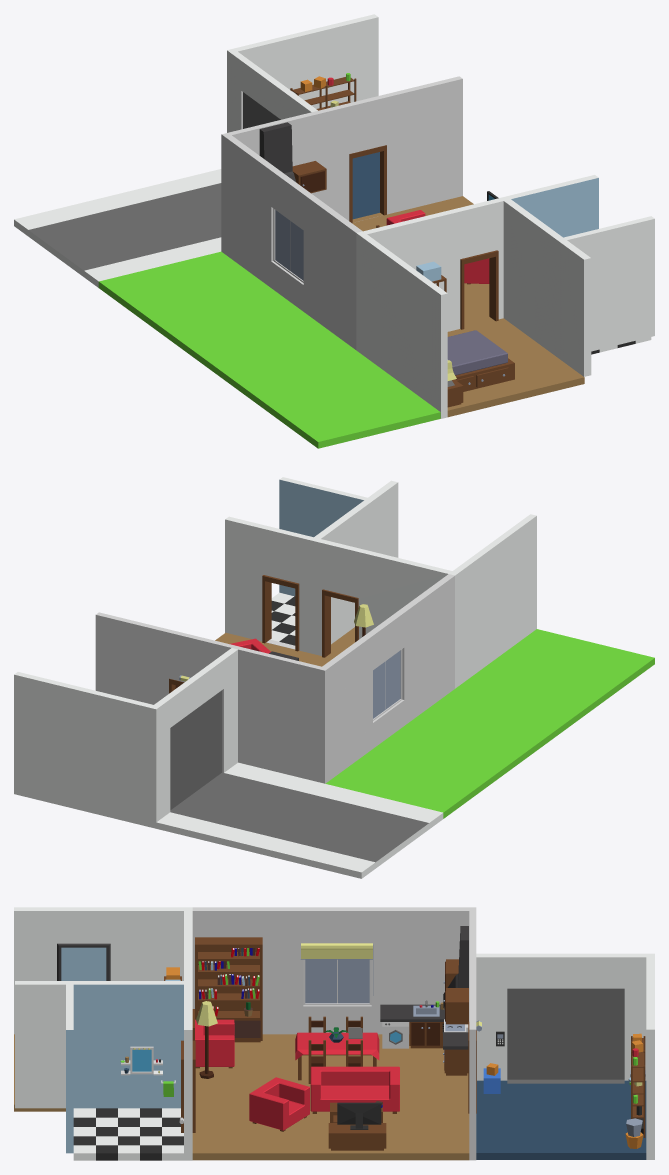
Rendered from Room 2.fbx.
3 views of the same model, one above another, from view 1: azimuth 30°, elevation 25°; view 2: azimuth 150°, elevation 25°; view 3: azimuth 270°, elevation 25° (orthographic). The views are drawn at different scales.
Parts seen in each view (by area): view 1: garaje, room, bedroom, WC, doorext; view 2: garaje, room, WC, bedroom, doorext; view 3: room, WC, garaje, bedroom, doorext, divan, telek, kreslo, fgfg.
Boxes of the visible parts, <box> form: garaje: <box>14,14,440,448</box>; room: <box>221,76,489,349</box>; bedroom: <box>356,198,584,418</box>; WC: <box>500,175,654,376</box>; doorext: <box>243,92,280,128</box>; garaje: <box>14,629,654,878</box>; room: <box>95,574,454,783</box>; WC: <box>225,477,398,654</box>; bedroom: <box>317,514,536,688</box>; doorext: <box>170,690,222,809</box>; room: <box>192,907,476,1160</box>; WC: <box>15,981,195,1160</box>; garaje: <box>476,953,654,1159</box>; bedroom: <box>14,907,194,1111</box>; doorext: <box>507,988,624,1079</box>; divan: <box>310,1066,399,1113</box>; telek: <box>328,1102,386,1150</box>; kreslo: <box>249,1077,309,1131</box>; fgfg: <box>300,943,373,995</box>.
Size of the model in its own units: 1664 by 545 by 2428.
